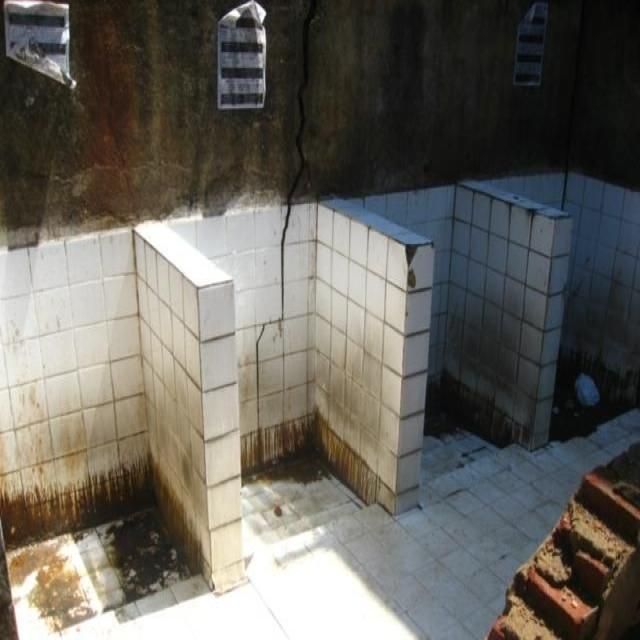dirty_floor: (0, 166, 638, 622), (1, 0, 638, 248), (3, 405, 637, 639), (238, 0, 395, 516), (0, 451, 201, 634), (483, 439, 638, 639), (238, 405, 394, 515), (0, 450, 161, 550)
